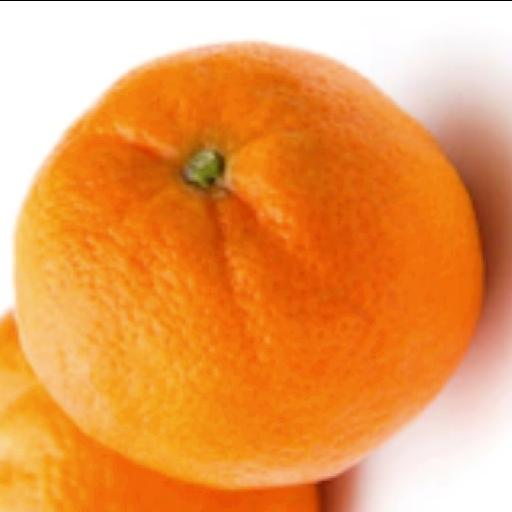orange: (17, 44, 482, 486), (0, 316, 319, 511), (0, 313, 35, 409)
